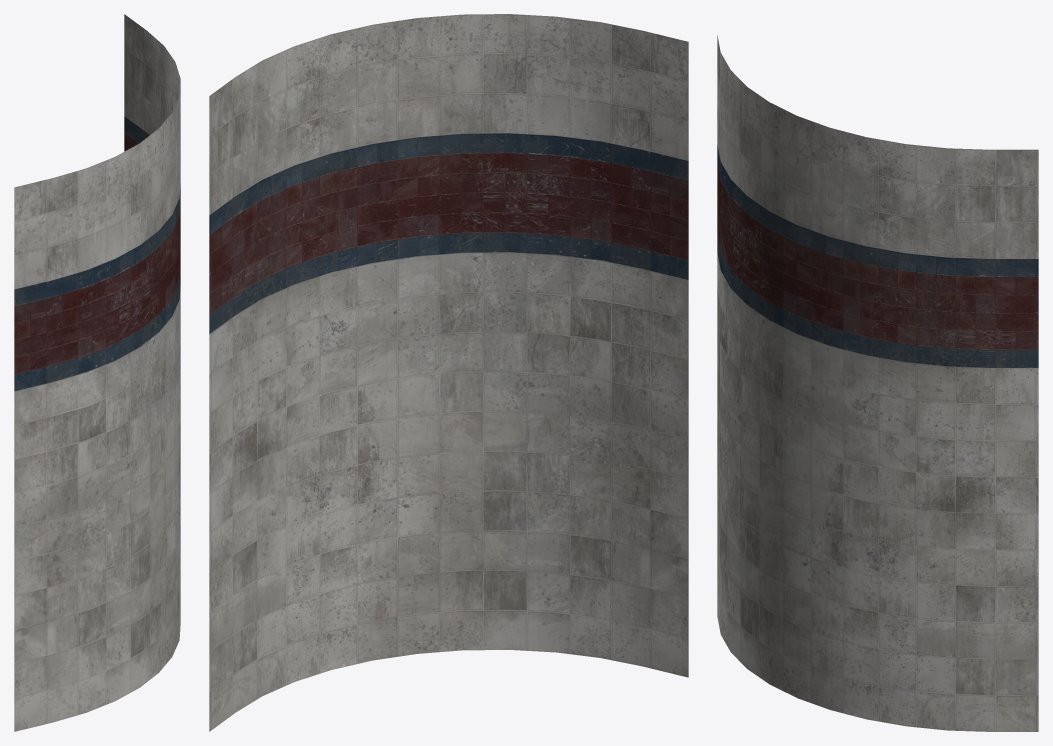
File: SM_Wall_Corner_Long_100u.glb
The picture shows the model from 3 angles, left to right: view 1: azimuth 30°, elevation 25°; view 2: azimuth 150°, elevation 25°; view 3: azimuth 270°, elevation 25°; orthographic projection. The views are drawn at different scales.
Parts seen in each view (by area): view 1: SM_Wall_Corner_Long_100u; view 2: SM_Wall_Corner_Long_100u; view 3: SM_Wall_Corner_Long_100u.
Boxes of the visible parts, x1=… form: SM_Wall_Corner_Long_100u: x1=14, y1=14, x2=180, y2=731; SM_Wall_Corner_Long_100u: x1=209, y1=14, x2=688, y2=731; SM_Wall_Corner_Long_100u: x1=717, y1=35, x2=1038, y2=731.
Bounding box in the file's own units: 1.3 × 2.6 × 1.3.
Materials: 1 (1 with a texture image).
